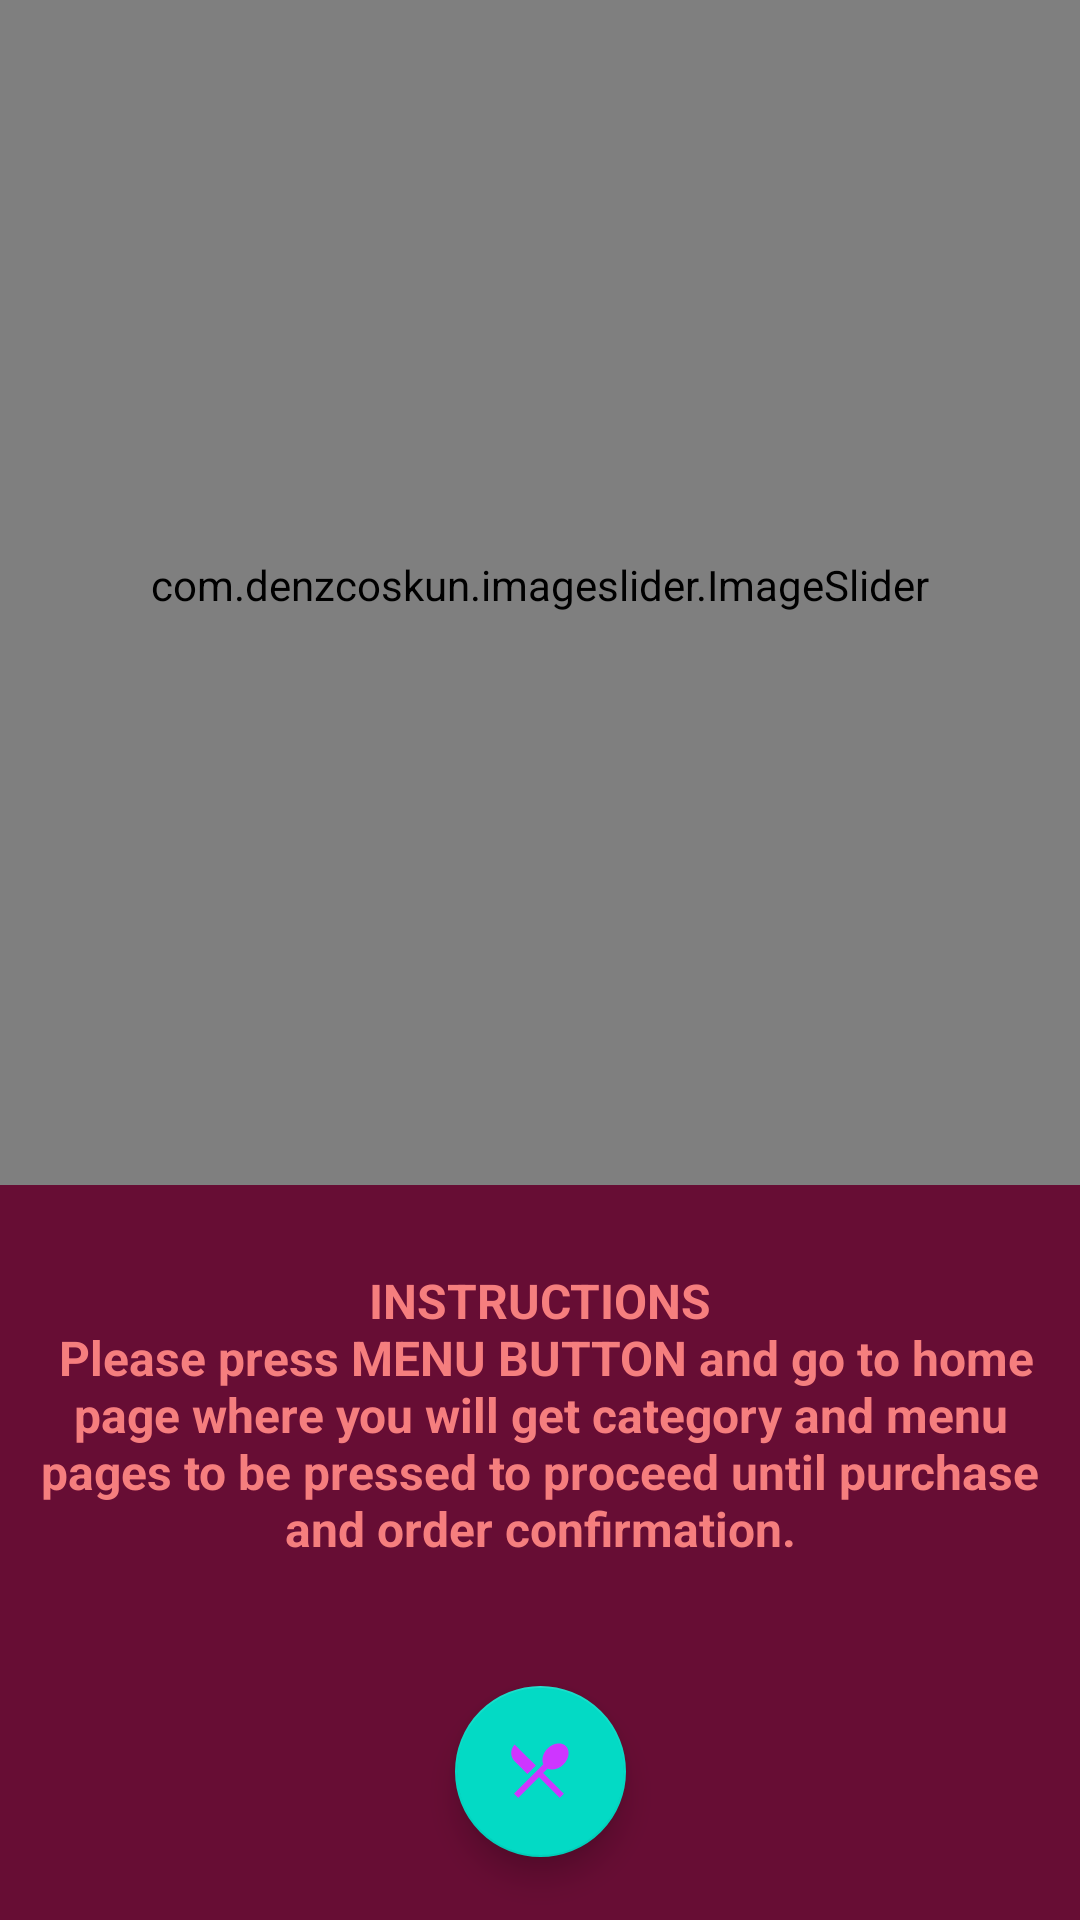

Icon click points for this 1080 x 1920 phone screenshot, format [x,y]:
manu: [540,1771]
